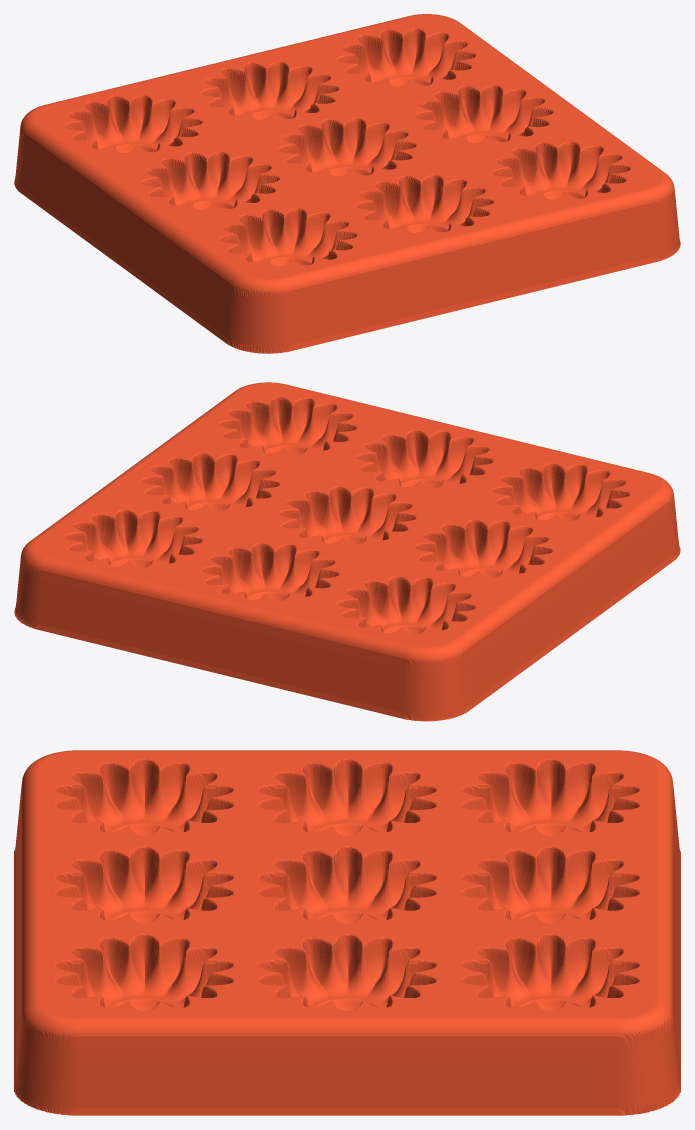
File: mold.glb
3 renders of one model, top to bottom at view 1: azimuth 30°, elevation 25°; view 2: azimuth 150°, elevation 25°; view 3: azimuth 270°, elevation 25°, orthographic. The views are drawn at different scales.
Visible parts, largest first — view 1: geometry_0; view 2: geometry_0; view 3: geometry_0.
Part boxes in pixels (x1,y1,x2,y2): geometry_0: (14, 14, 680, 353); geometry_0: (14, 382, 680, 721); geometry_0: (14, 750, 680, 1115).
Bounding box in the file's own units: 0.0964 × 0.0136 × 0.0946.
